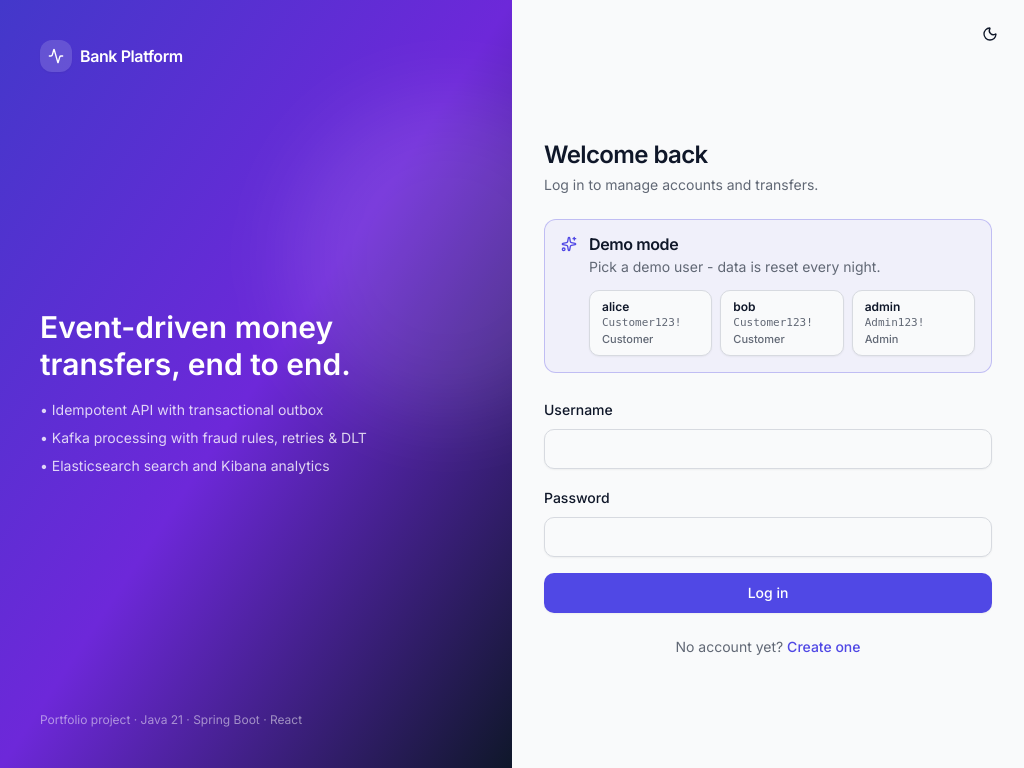
Scenario: LoginPage › validates required fields
Click the button "Log in" at (768, 593), box [544, 573, 992, 613]
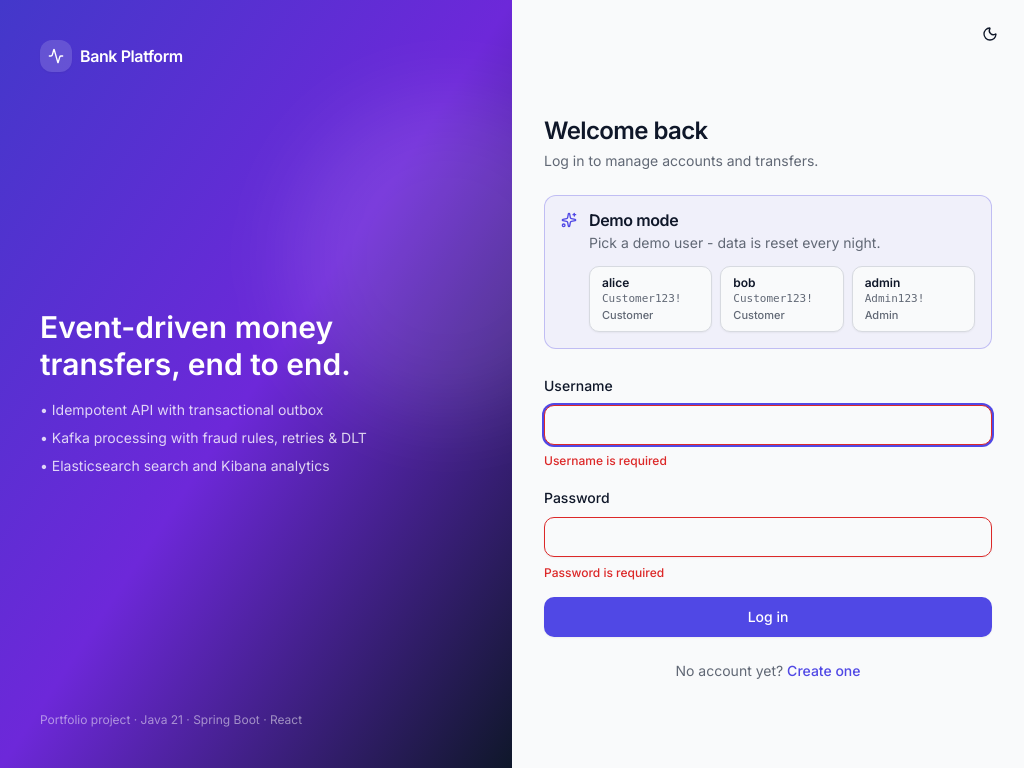
Expected: the text "Username is required" is shown, [544, 453, 667, 468]
Expected: the text "Password is required" is shown, [544, 565, 664, 580]
